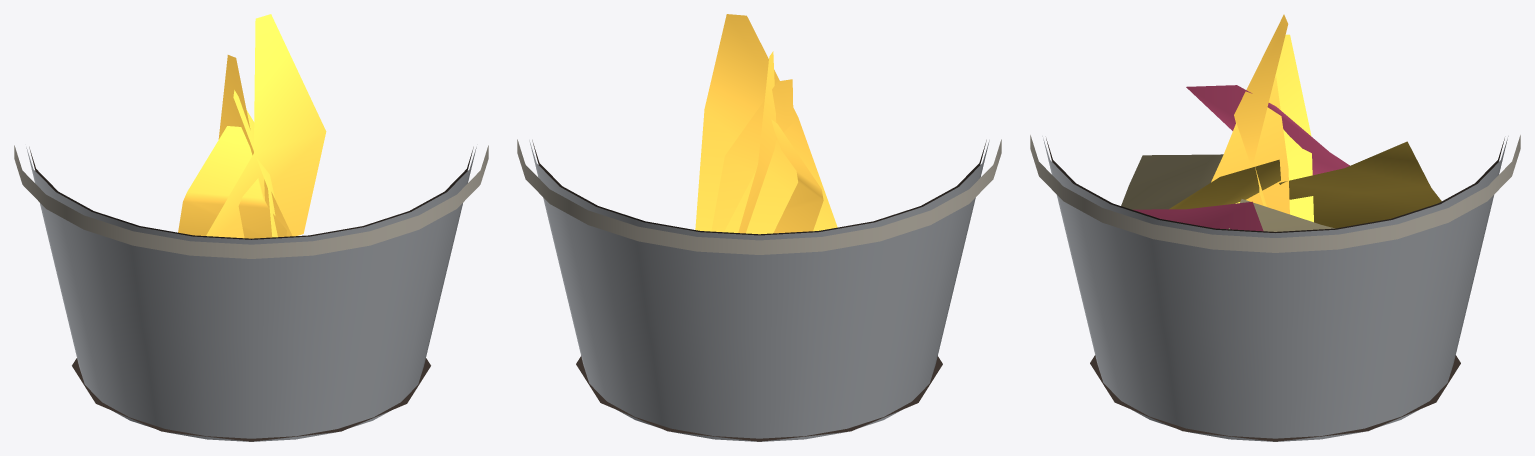
File: SM_BurnBasin_Burning.glb
3 renders of one model, left to right at view 1: azimuth 30°, elevation 25°; view 2: azimuth 150°, elevation 25°; view 3: azimuth 270°, elevation 25°, orthographic. The views are drawn at different scales.
Visible parts, largest first — view 1: SM_BurnBasin_Burning; view 2: SM_BurnBasin_Burning; view 3: SM_BurnBasin_Burning.
Part boxes in pixels (x1,y1,x2,y2): SM_BurnBasin_Burning: (14, 14, 488, 441); SM_BurnBasin_Burning: (517, 14, 1001, 441); SM_BurnBasin_Burning: (1030, 14, 1520, 441).
Size of the model in its own units: 0.4777 by 0.3842 by 0.4777.
